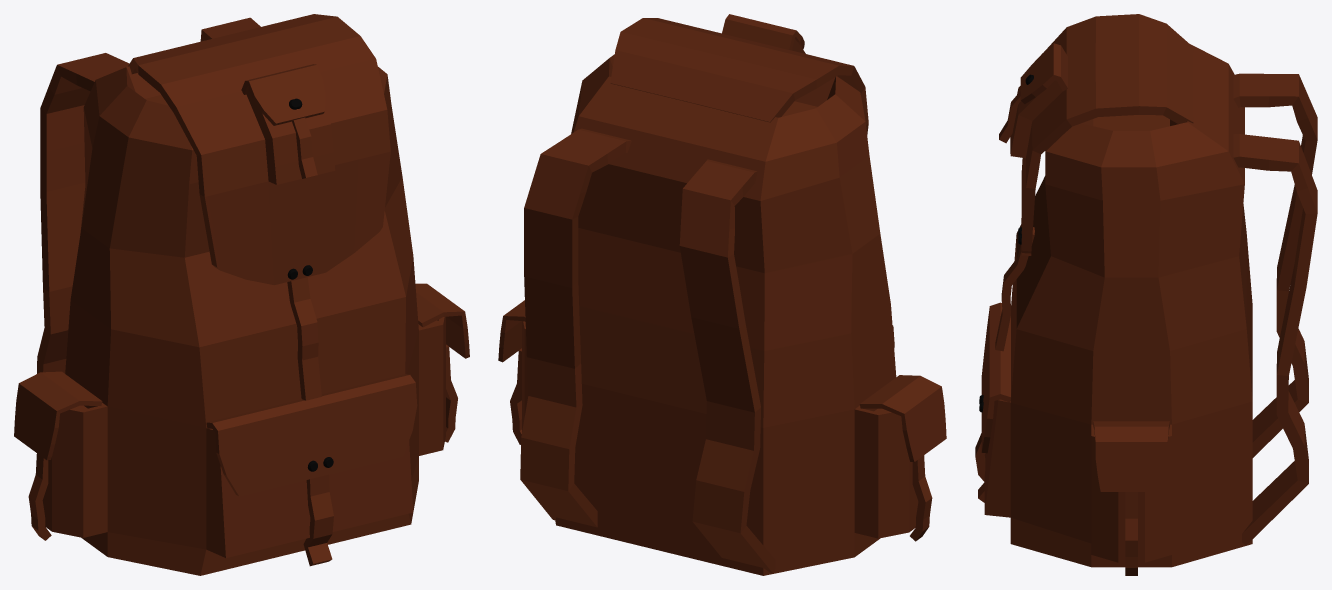
Rendered from mochila.glb.
The picture shows the model from 3 angles, left to right: view 1: azimuth 30°, elevation 25°; view 2: azimuth 150°, elevation 25°; view 3: azimuth 270°, elevation 25°; orthographic projection. The views are drawn at different scales.
Parts seen in each view (by area): view 1: Sphere; view 2: Sphere; view 3: Sphere.
Part boxes in pixels (box(x1,y1,x2,y2)): Sphere: box(14, 14, 469, 575); Sphere: box(498, 14, 946, 575); Sphere: box(975, 14, 1317, 575).
Size of the model in its own units: 79.57 by 83.19 by 58.69.
